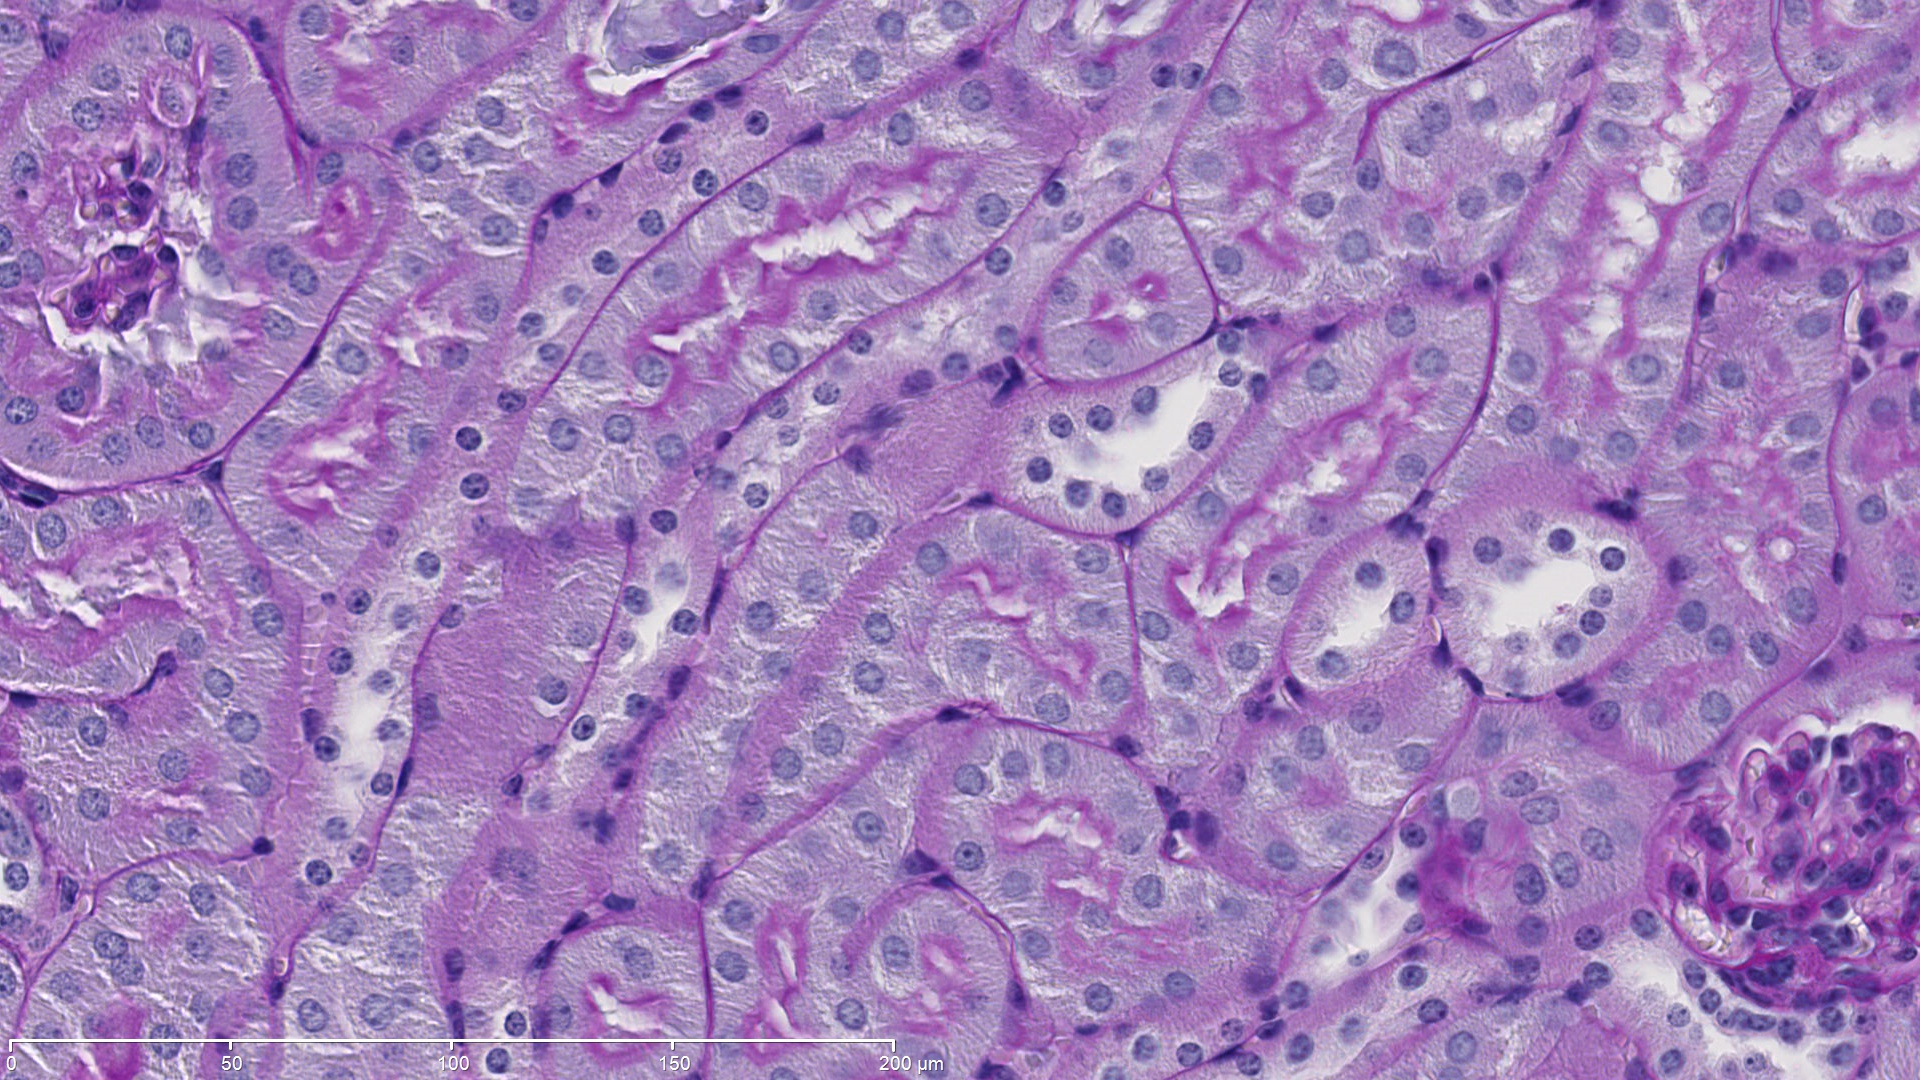Glomeruli: (1646, 708, 1920, 1029)
